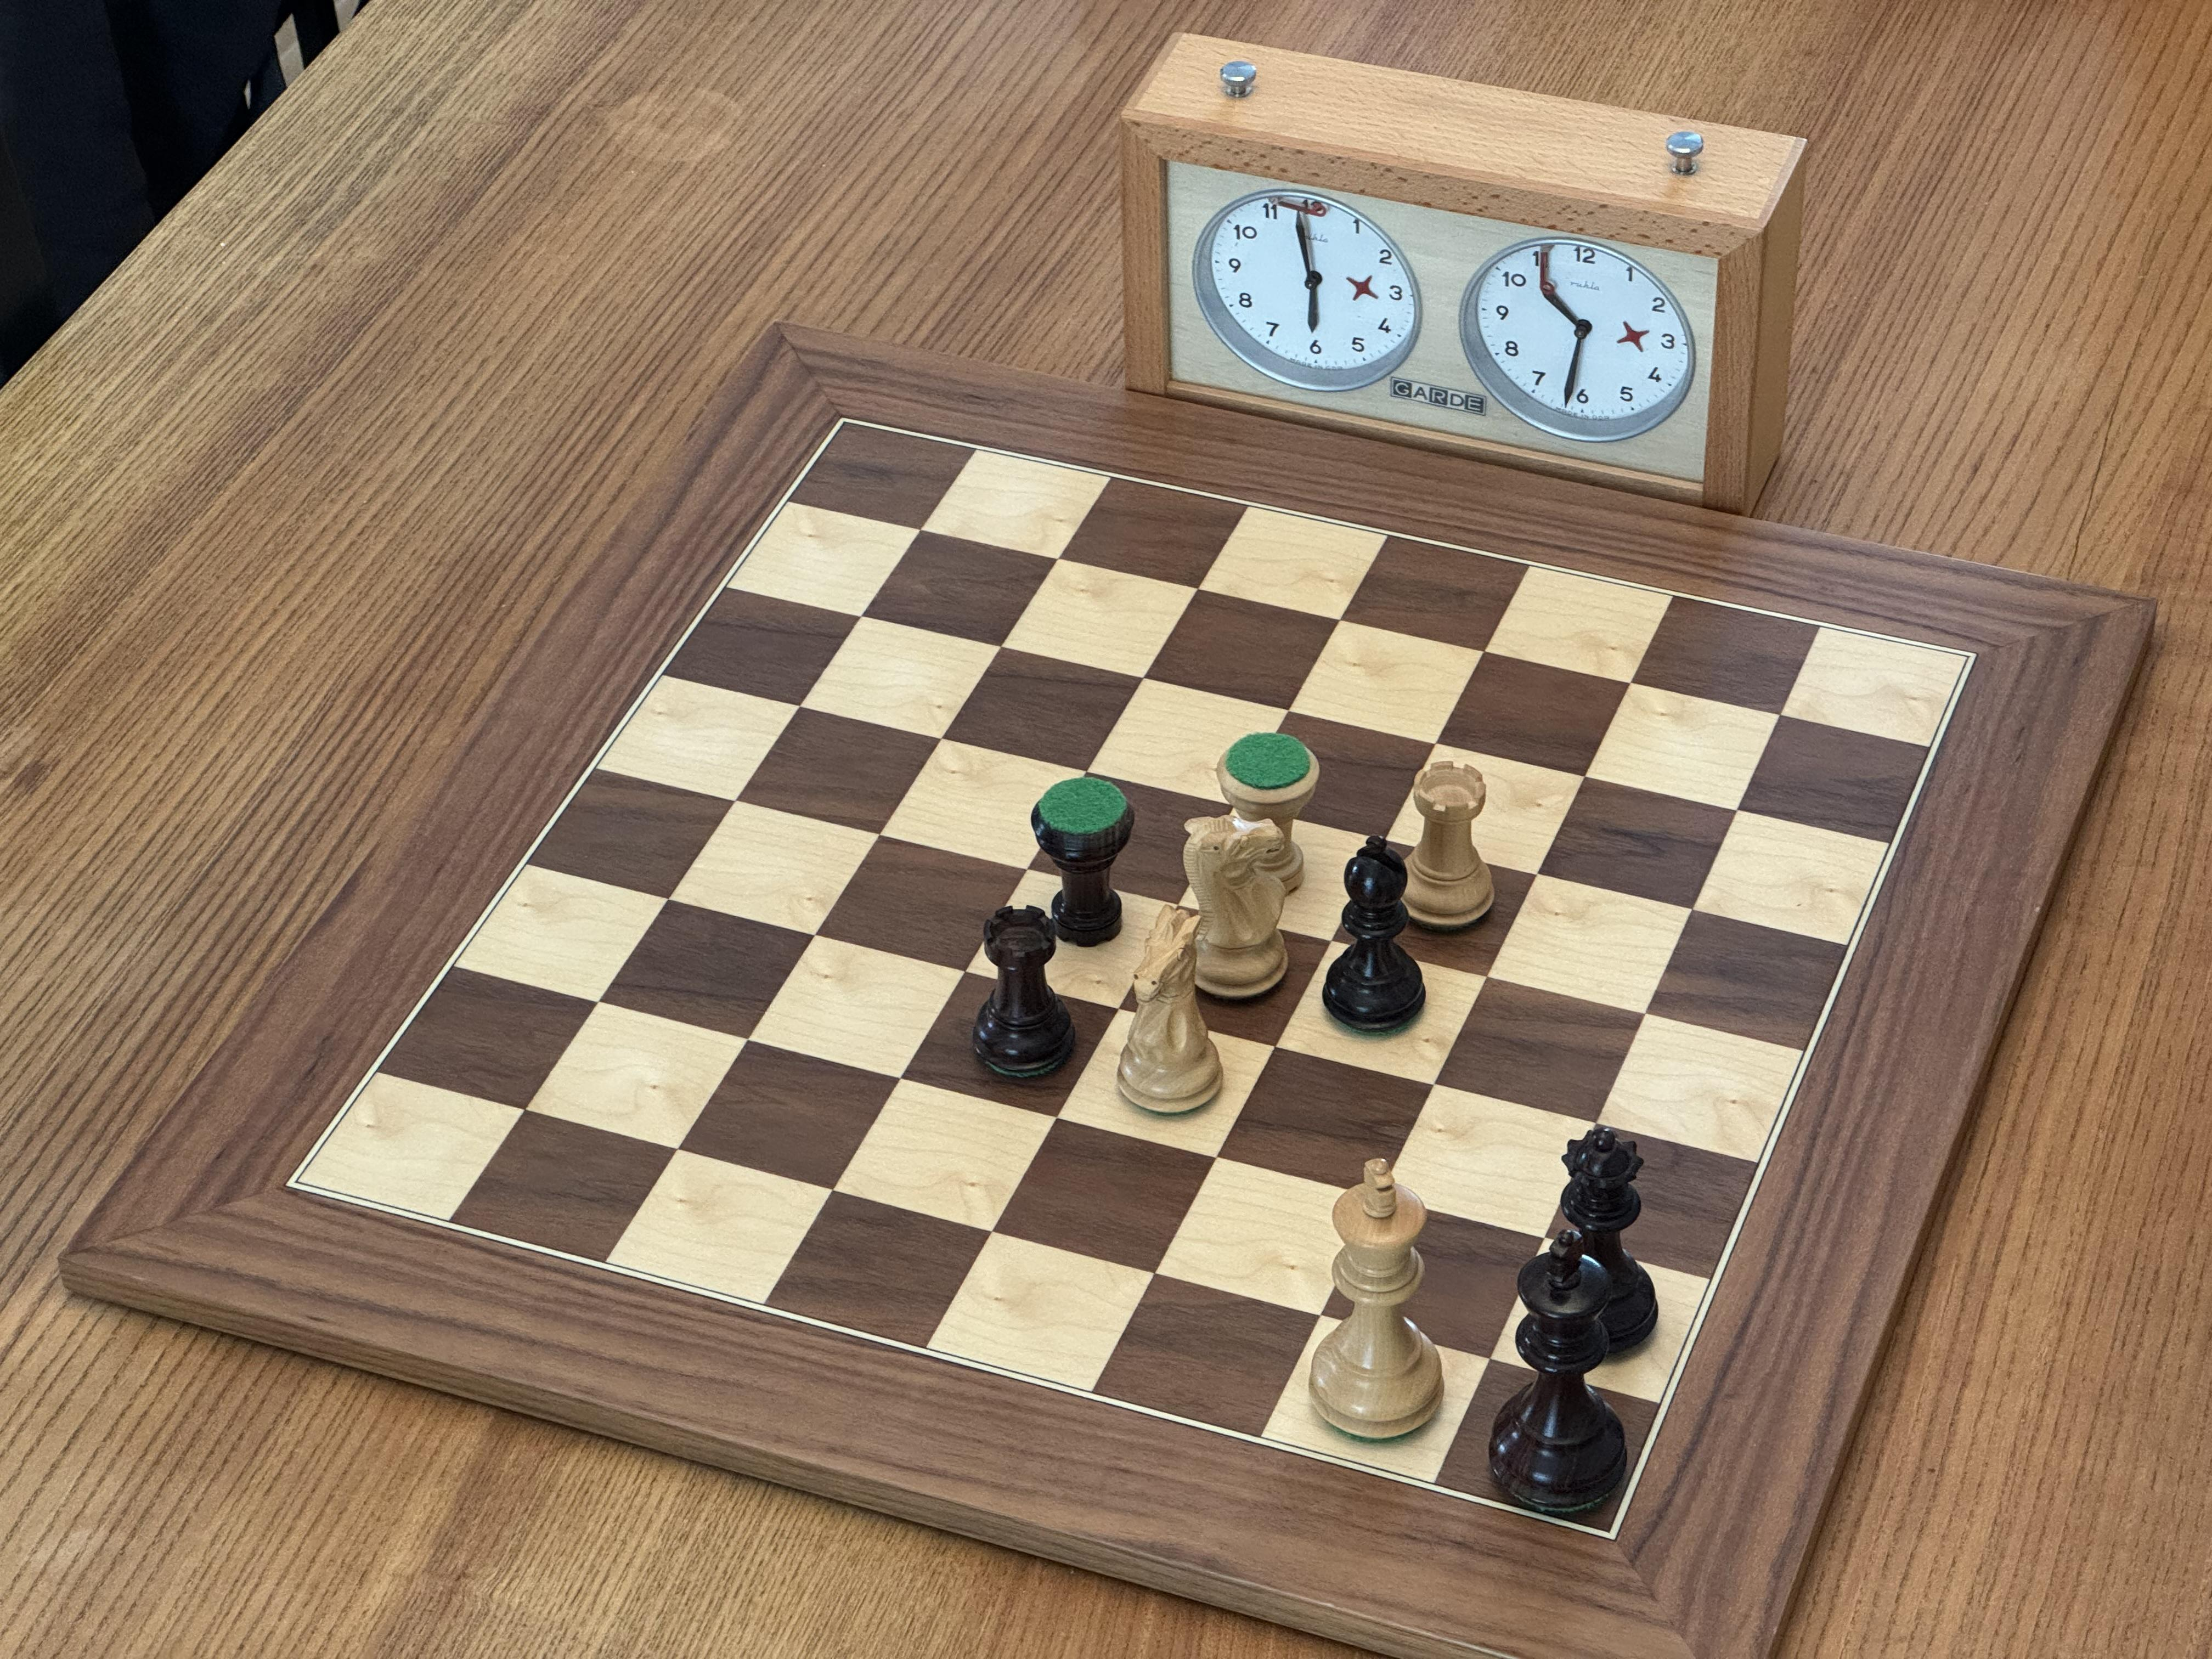Black Extra Queen: (1026, 774, 1139, 951)
White Extra Queen: (1212, 728, 1324, 899)
